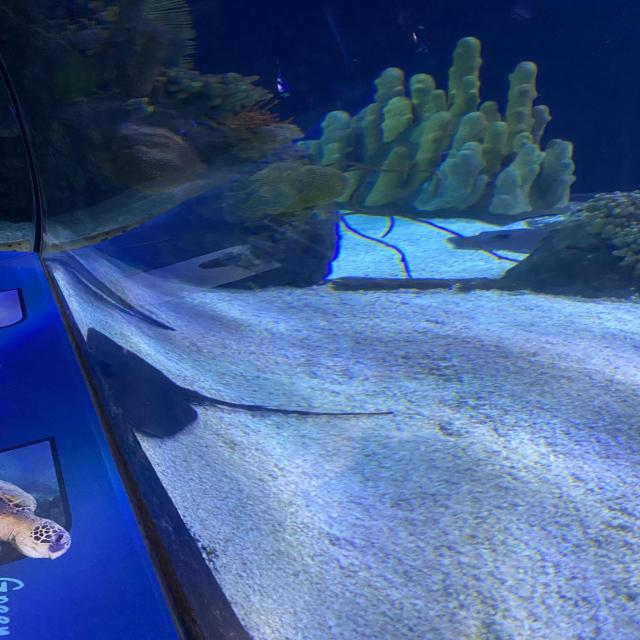stingray: (85, 326, 198, 439), (445, 224, 558, 256)
